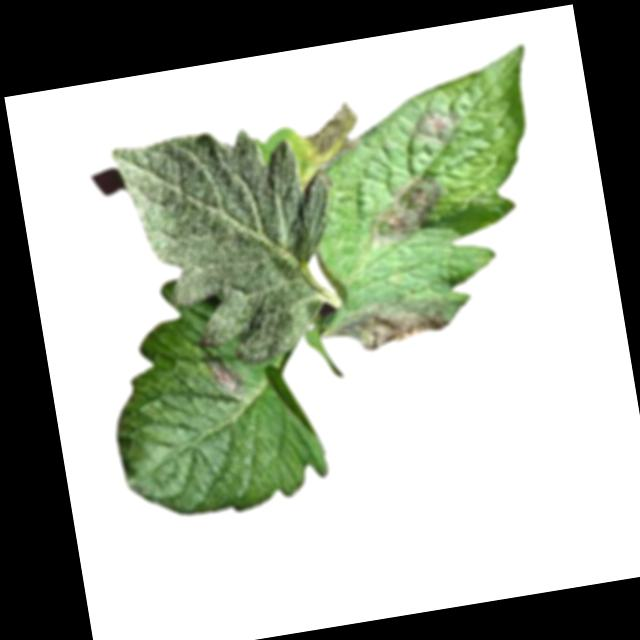Late_blight: (321, 287, 466, 358), (357, 172, 449, 256), (295, 100, 366, 184), (408, 102, 470, 151), (210, 355, 247, 398)
